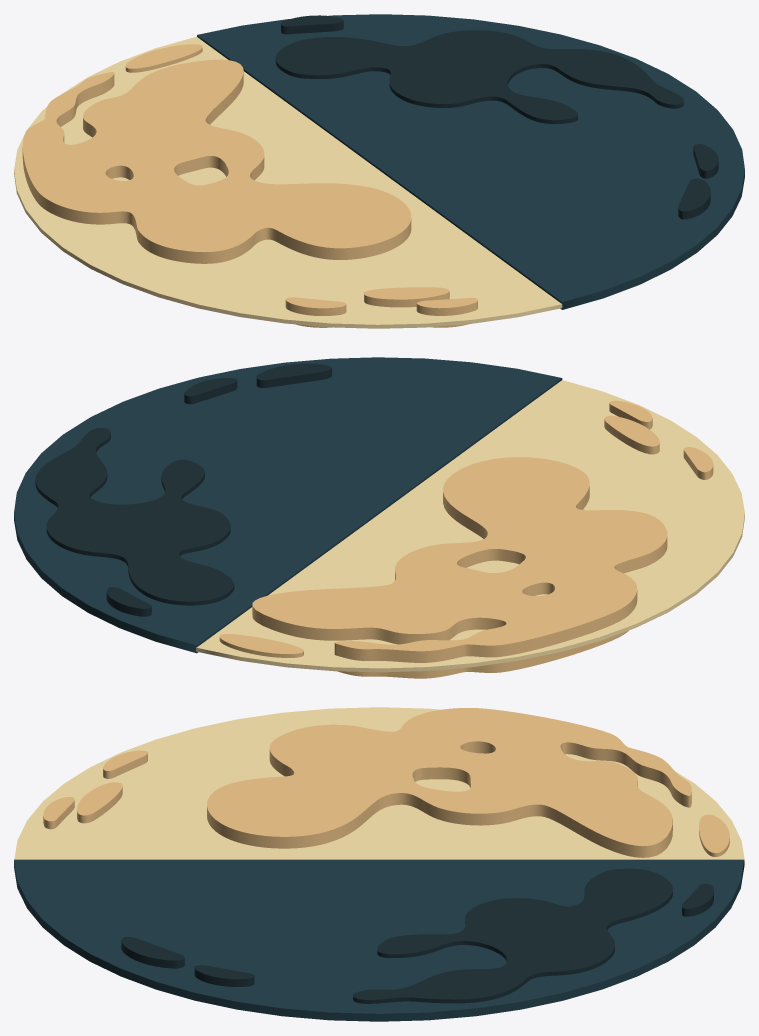
The model's file is emoji_u1f317.glb.
The picture shows the model from 3 angles, top to bottom: view 1: azimuth 30°, elevation 25°; view 2: azimuth 150°, elevation 25°; view 3: azimuth 270°, elevation 25°; orthographic projection.
Parts seen in each view (by area): view 1: emoji_u1f317; view 2: emoji_u1f317; view 3: emoji_u1f317.
Boxes of the visible parts, box(x1,y1,x2,y2) form: emoji_u1f317: box(14, 14, 744, 328); emoji_u1f317: box(14, 357, 744, 678); emoji_u1f317: box(14, 707, 744, 1021).
Bounding box in the file's own units: 0.0338 × 0.0014 × 0.0339.
